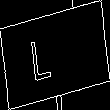L_N: (43, 28, 67, 82)
